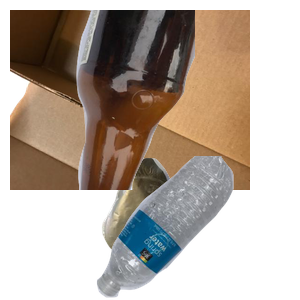cardboard: (10, 10, 250, 190)
glass: (60, 10, 300, 190)
plastic: (94, 156, 300, 300)
trash: (99, 155, 268, 300)
